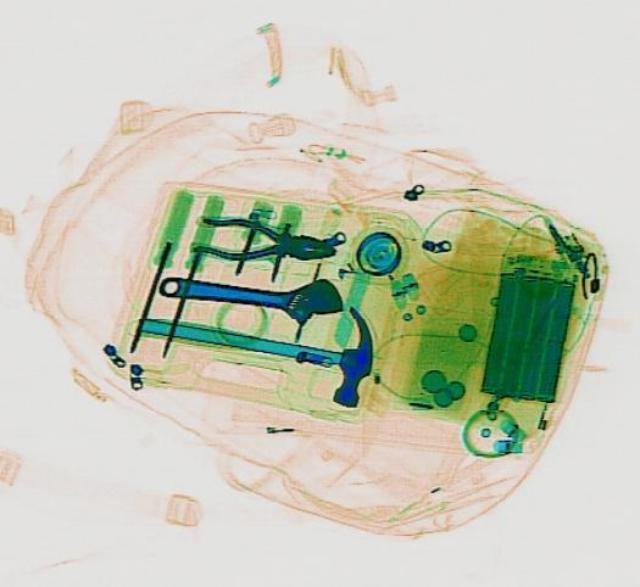Pliers: (188, 210, 338, 271)
Wrench: (153, 258, 343, 327)
